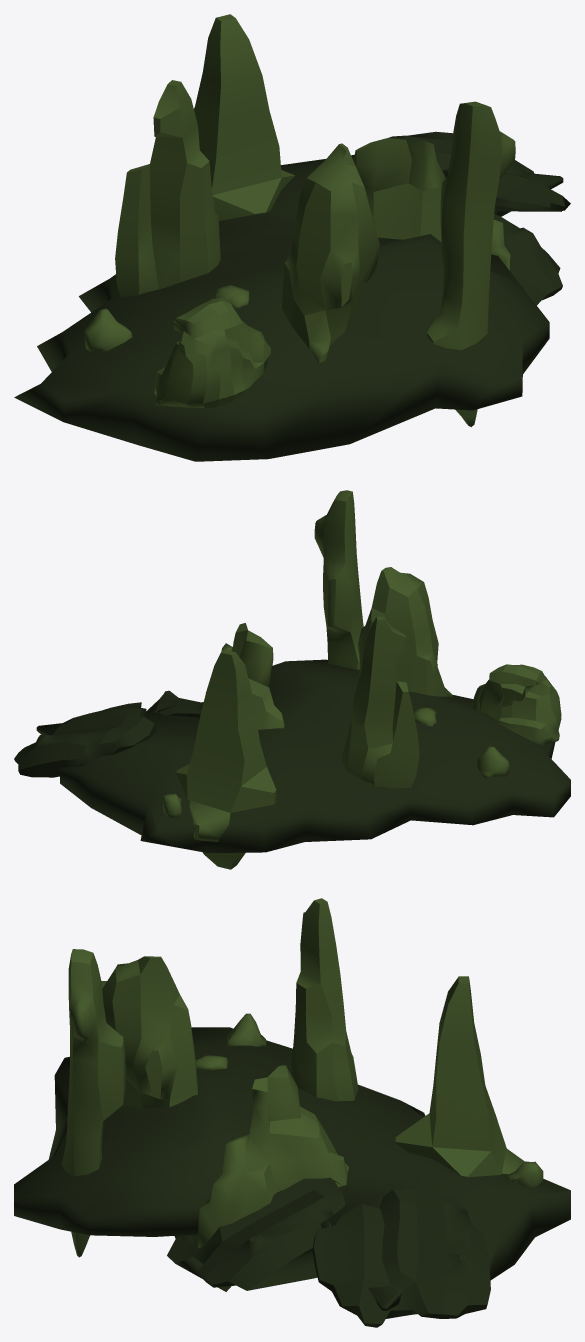
The model's file is pile_green.glb.
3 views of the same model, one above another, from view 1: azimuth 30°, elevation 25°; view 2: azimuth 150°, elevation 25°; view 3: azimuth 270°, elevation 25° (orthographic). The views are drawn at different scales.
Visible parts, largest first — view 1: rock.007, rock.009, rock.008, rock.011, rock.004, rock.017, rock.026, rock.006, rock.001, rock.030, rock.035; view 2: rock.007, rock.004, rock.009, rock.011, rock.008, rock.006, rock.017, rock.026, rock.001, rock.030; view 3: rock.007, rock.006, rock.026, rock.004, rock.001, rock.008, rock.011, rock.009, rock.030, rock.032.
Part boxes in pixels (left/top/right/bottom): rock.007: left=14, top=155, right=563, bottom=461; rock.009: left=115, top=80, right=220, bottom=297; rock.008: left=282, top=143, right=379, bottom=362; rock.011: left=426, top=101, right=515, bottom=427; rock.004: left=194, top=14, right=295, bottom=220; rock.017: left=154, top=298, right=270, bottom=407; rock.026: left=353, top=138, right=510, bottom=270; rock.006: left=388, top=131, right=570, bottom=211; rock.001: left=494, top=214, right=562, bottom=305; rock.030: left=84, top=308, right=132, bottom=351; rock.035: left=212, top=285, right=249, bottom=308; rock.007: left=36, top=659, right=570, bottom=852; rock.004: left=176, top=649, right=276, bottom=869; rock.009: left=341, top=616, right=419, bottom=788; rock.011: left=314, top=490, right=363, bottom=669; rock.008: left=358, top=567, right=452, bottom=697; rock.006: left=14, top=702, right=156, bottom=777; rock.017: left=471, top=664, right=561, bottom=745; rock.026: left=221, top=623, right=284, bottom=729; rock.001: left=146, top=690, right=203, bottom=720; rock.030: left=476, top=746, right=509, bottom=778; rock.007: left=14, top=1027, right=570, bottom=1310; rock.006: left=312, top=1189, right=490, bottom=1327; rock.026: left=198, top=1065, right=348, bottom=1247; rock.004: left=395, top=976, right=524, bottom=1177; rock.001: left=167, top=1177, right=346, bottom=1291; rock.008: left=102, top=956, right=197, bottom=1108; rock.011: left=62, top=949, right=125, bottom=1257; rock.009: left=291, top=898, right=358, bottom=1101; rock.030: left=226, top=1013, right=265, bottom=1046; rock.032: left=506, top=1161, right=543, bottom=1187.
Size of the model in its own units: 34.94 by 18.17 by 28.82.
